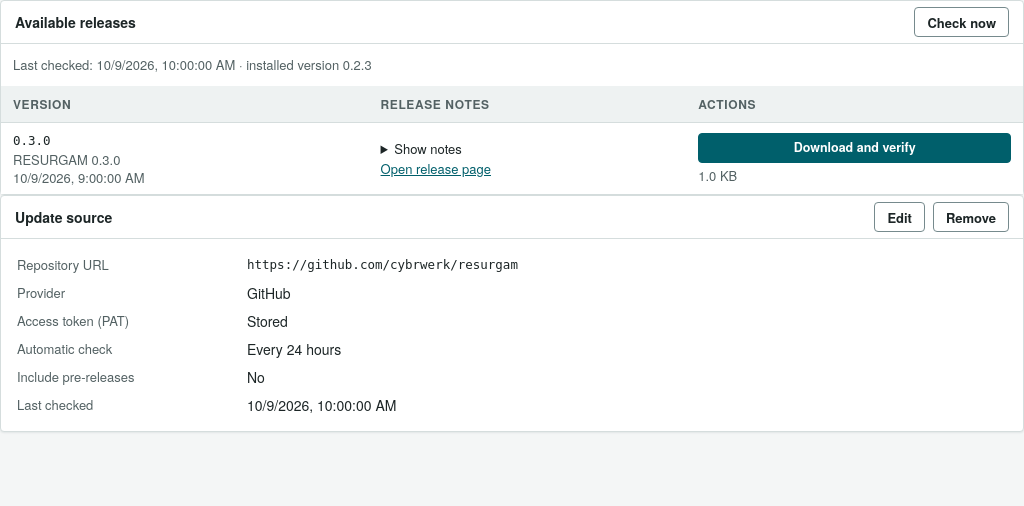
UpdateSourcePanel › lists newer releases, downloads one and hands the bundle to the verify step
Check: the text "0.3.0" is shown, box [13,133,51,148]
Click the button "Download and verify" at (855, 148), box [698,132,1011,162]
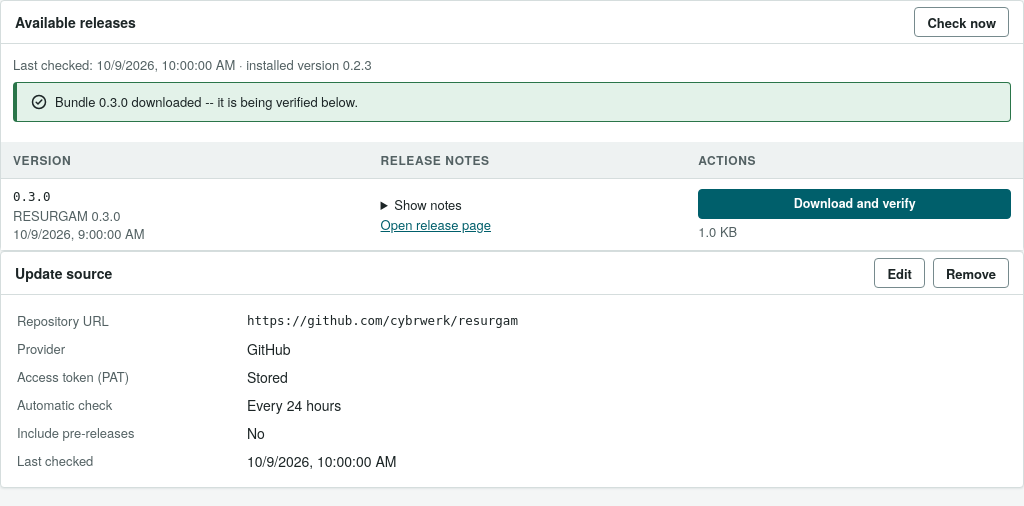
Check: the element with test id "update-source-download" shows "Bundle 0.3.0 downloaded", box [55,92,358,111]
